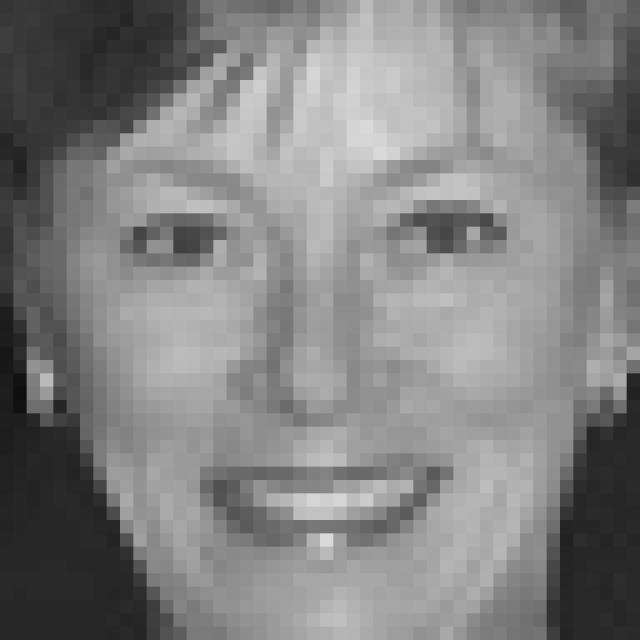happy: (99, 142, 554, 568)
